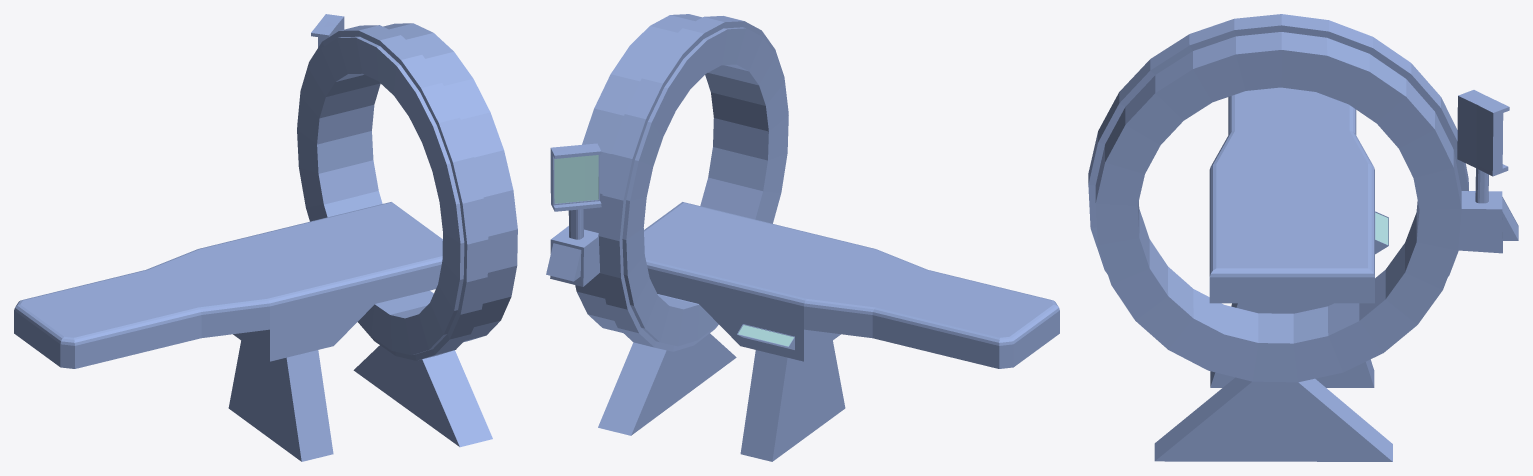
The model's file is med.fbx.
3 renders of one model, left to right at view 1: azimuth 30°, elevation 25°; view 2: azimuth 150°, elevation 25°; view 3: azimuth 270°, elevation 25°, orthographic. The views are drawn at different scales.
Parts seen in each view (by area): view 1: med1, med2; view 2: med1, med2; view 3: med1, med2.
Boxes of the visible parts, x1=… form: med1: x1=297, y1=14, x2=517, y2=447; med2: x1=14, y1=202, x2=442, y2=461; med1: x1=546, y1=14, x2=788, y2=435; med2: x1=644, y1=202, x2=1059, y2=461; med1: x1=1088, y1=14, x2=1518, y2=461; med2: x1=1209, y1=87, x2=1388, y2=387.
Size of the model in its own units: 6.23 by 5.21 by 5.58.
